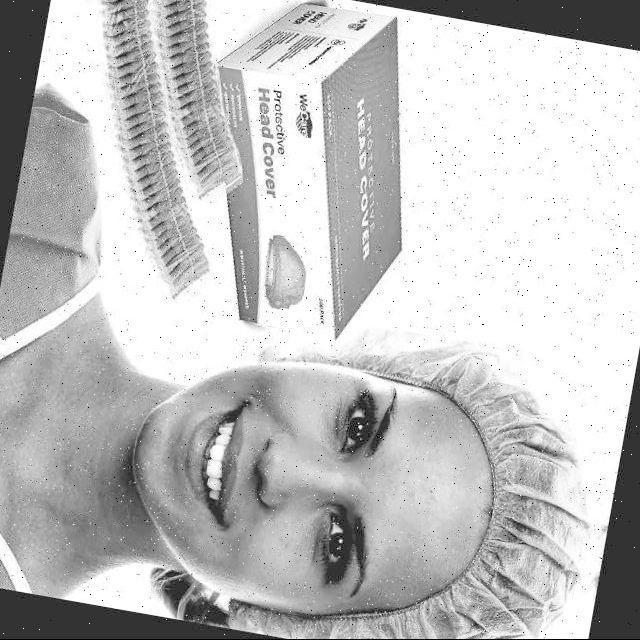gloves: (456, 352, 578, 640)
no_hairnet: (170, 406, 320, 548)
